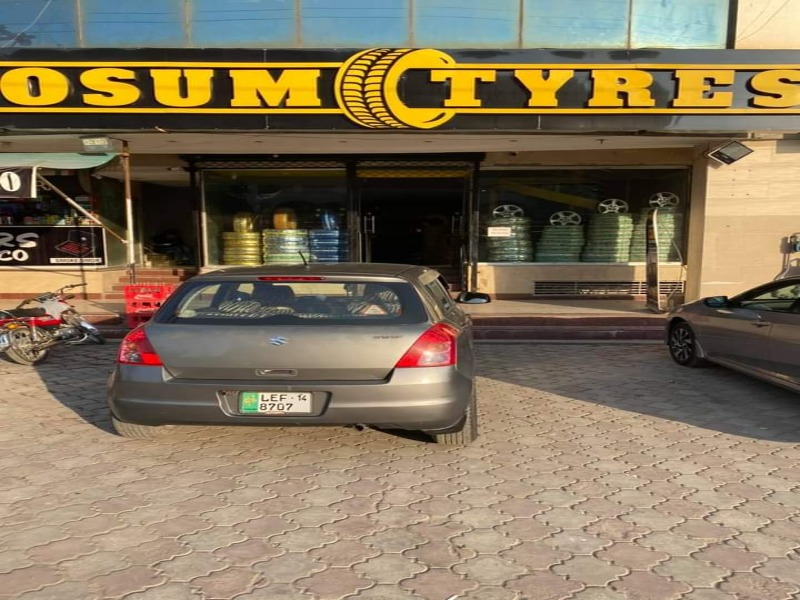License Plate: (238, 387, 318, 420)
